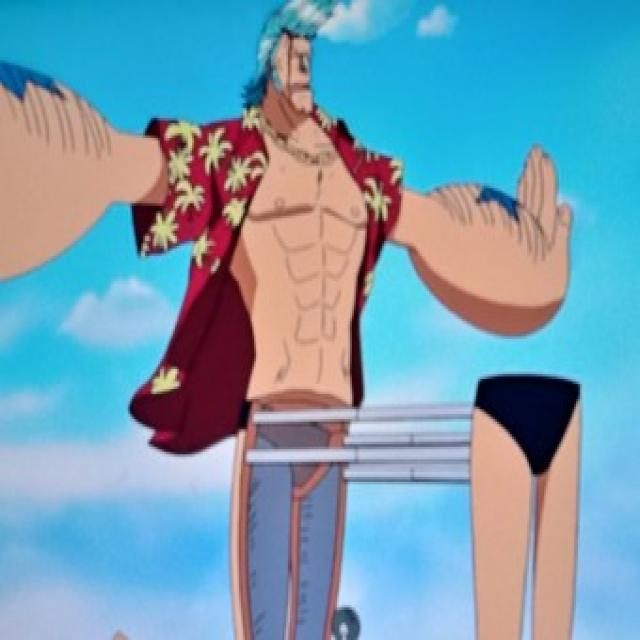Franky: (235, 0, 333, 133)
